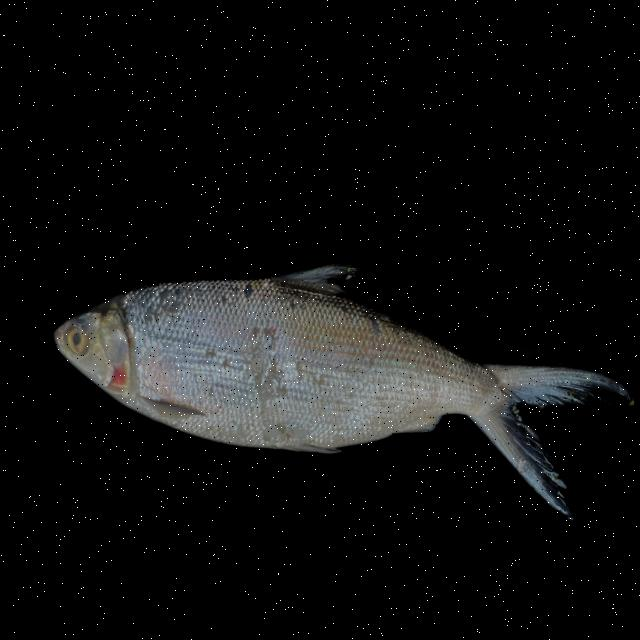850 g: (41, 238, 640, 520)
